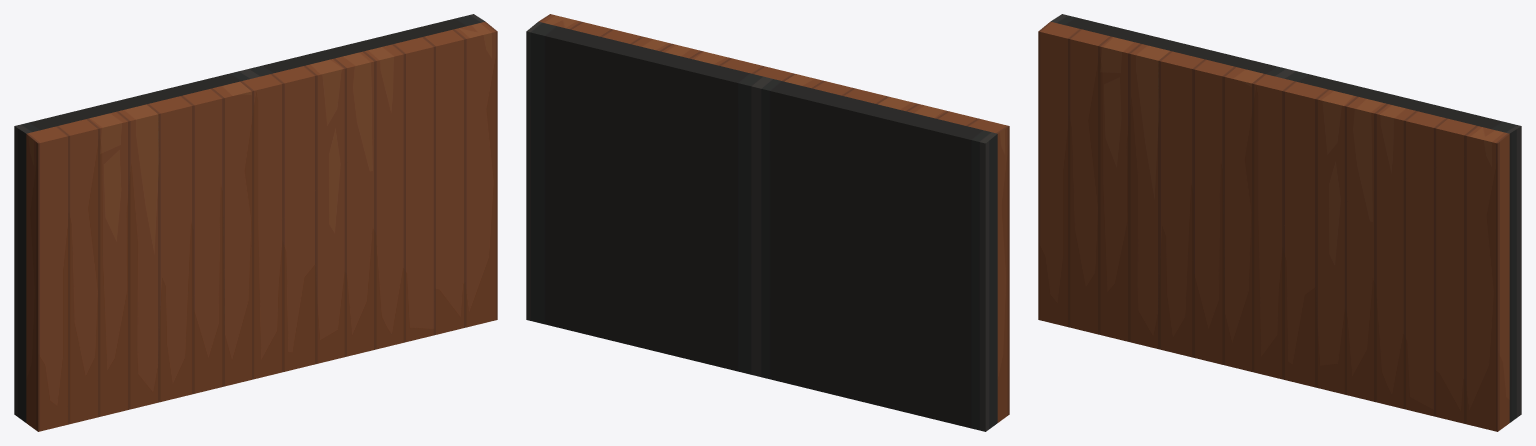
File: SM_Bld_Base_Wall_Half_01_279.obj
3 views of the same model, side by side, from view 1: azimuth 30°, elevation 25°; view 2: azimuth 150°, elevation 25°; view 3: azimuth 330°, elevation 25° (orthographic).
Parts seen in each view (by area): view 1: SM_Bld_Base_Wall_Half_01_1, SM_Bld_Base_Wall_Half_01_0; view 2: SM_Bld_Base_Wall_Half_01_0, SM_Bld_Base_Wall_Half_01_1; view 3: SM_Bld_Base_Wall_Half_01_1, SM_Bld_Base_Wall_Half_01_0.
Part boxes in pixels (<box>): SM_Bld_Base_Wall_Half_01_1: <box>26,21,497,431</box>; SM_Bld_Base_Wall_Half_01_0: <box>14,14,484,422</box>; SM_Bld_Base_Wall_Half_01_0: <box>526,21,997,431</box>; SM_Bld_Base_Wall_Half_01_1: <box>539,14,1009,422</box>; SM_Bld_Base_Wall_Half_01_1: <box>1038,21,1509,431</box>; SM_Bld_Base_Wall_Half_01_0: <box>1051,14,1521,422</box>.
Bounding box in the file's own units: 2.5 × 1.51 × 0.225.
Materials: 2 (2 with a texture image).
